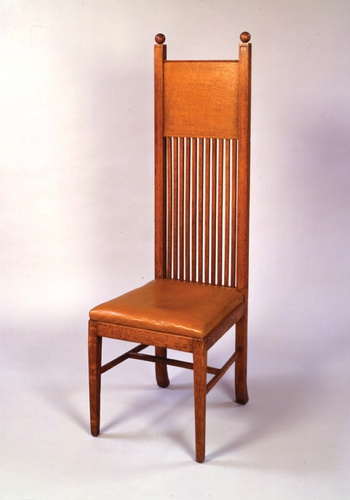obstacle: (88, 32, 250, 461)
